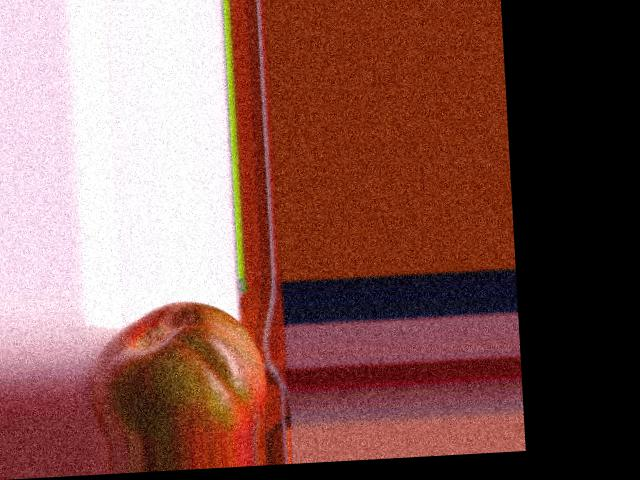tomato: (88, 297, 269, 442)
